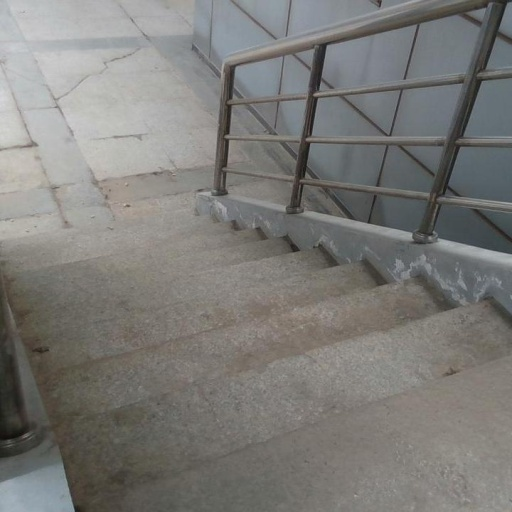Stairs: (7, 209, 512, 512)
